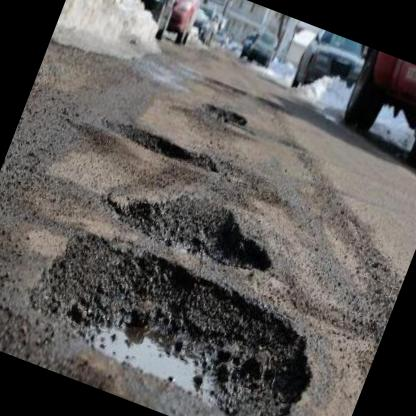pothole: (14, 213, 338, 416), (94, 160, 288, 286), (98, 110, 223, 176), (202, 96, 250, 129)
